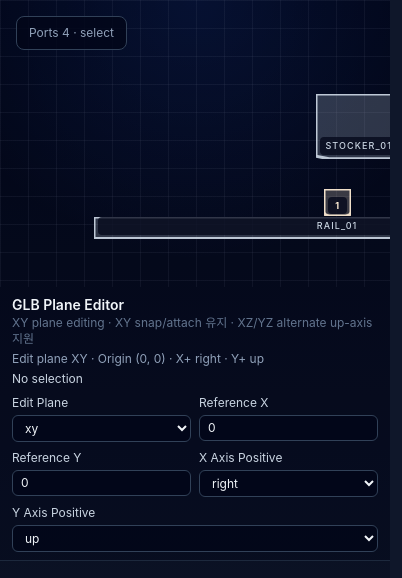
Test: TopViewCanvas › pans in the opposite direction when the frame axes are reversed
The width and height of the screenshot is (402, 578).
Check: the element with class "editor-grid" is shown, box x1=0 y1=0 x2=390 y2=287
Select "left" in the dropdown labelled "X Axis Positive". click: (288,484)
box: x1=199 y1=470 x2=378 y2=497
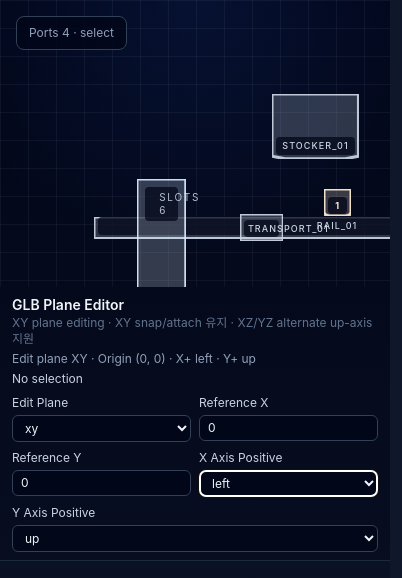
Select "down" in the dropdown labelled "Y Axis Positive". click: (195,538)
box: x1=12 y1=525 x2=378 y2=552
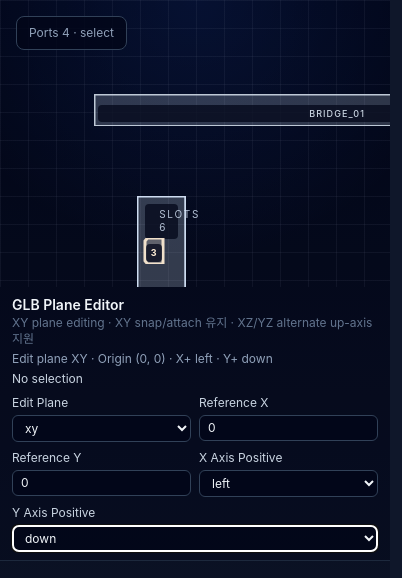
Press the mouse on the element with class "editor-grid" at (195,144), box x1=0 y1=0 x2=390 y2=287
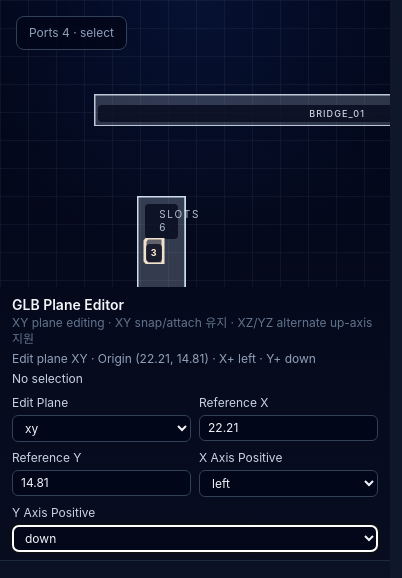
Check: the number field labelled "Reference X" holds "22.21", box x1=199 y1=415 x2=378 y2=441
Check: the number field labelled "Reference Y" holds "14.81", box x1=12 y1=470 x2=191 y2=496
